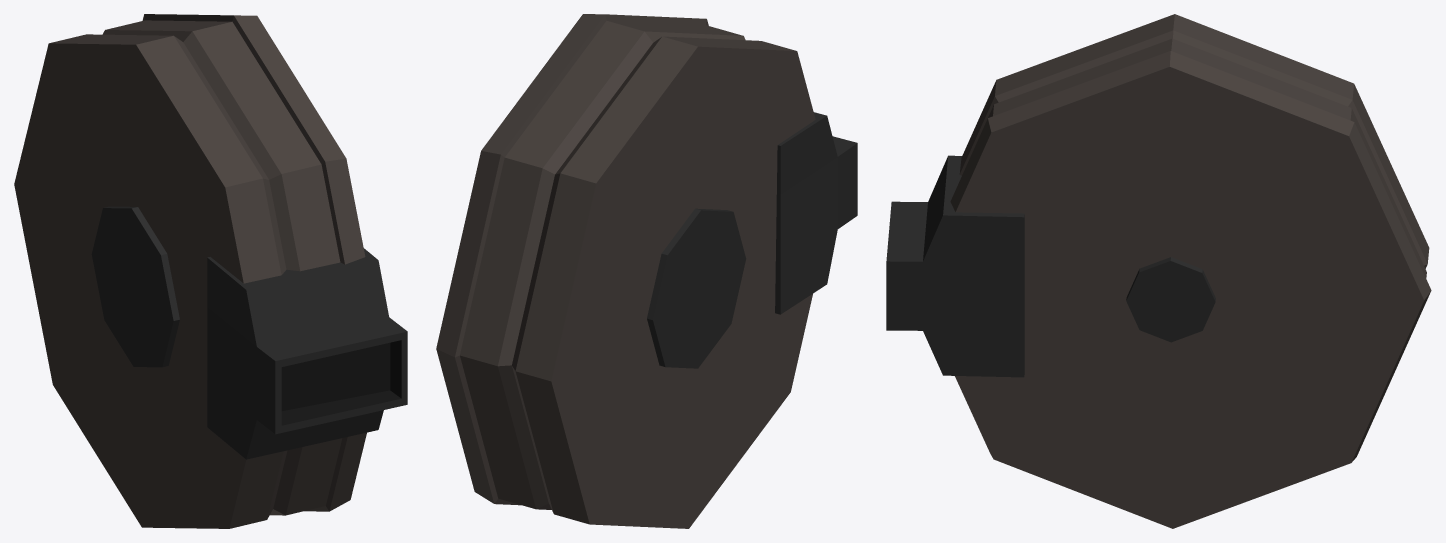
File: PpshMag.glb
The picture shows the model from 3 angles, left to right: view 1: azimuth 30°, elevation 25°; view 2: azimuth 150°, elevation 25°; view 3: azimuth 270°, elevation 25°; orthographic projection. The views are drawn at different scales.
Parts seen in each view (by area): view 1: PpshMag; view 2: PpshMag; view 3: PpshMag.
Boxes of the visible parts, left/top/right/bottom form: PpshMag: left=14, top=14, right=407, bottom=528; PpshMag: left=436, top=14, right=857, bottom=528; PpshMag: left=886, top=14, right=1431, bottom=528.
Size of the model in its own units: 0.2997 by 0.9963 by 1.05.
1 material, 1 textured.
